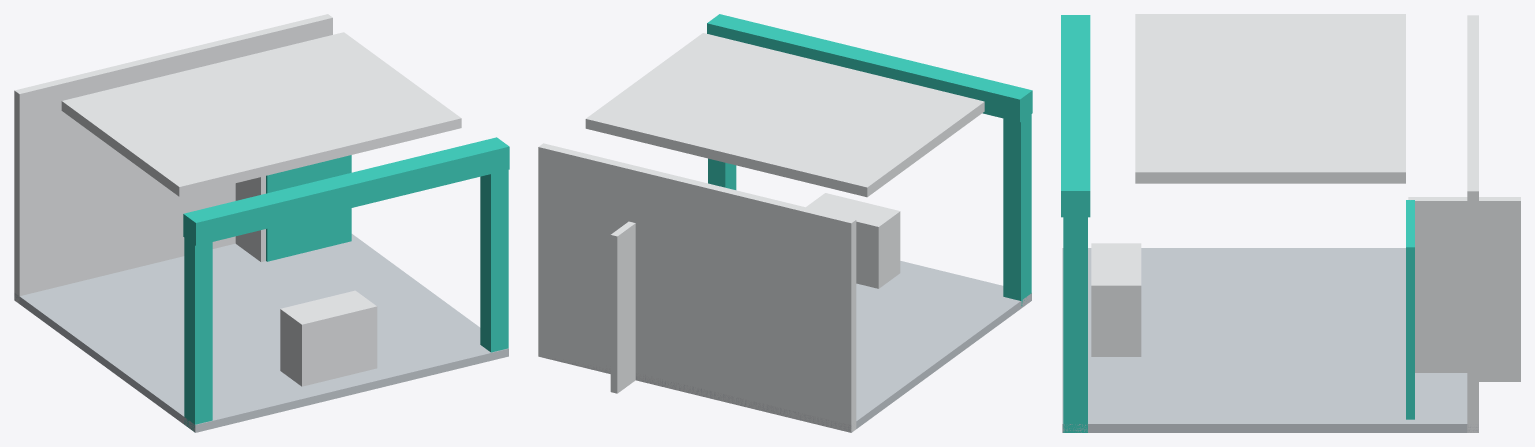
3 views of the same model, side by side, from view 1: azimuth 30°, elevation 25°; view 2: azimuth 150°, elevation 25°; view 3: azimuth 270°, elevation 25° (orthographic). The views are drawn at different scales.
Visible parts, largest first — view 1: Exhibition Booth Concept; view 2: Exhibition Booth Concept; view 3: Exhibition Booth Concept.
Part boxes in pixels (x1=…): Exhibition Booth Concept: x1=14, y1=14, x2=509, y2=432; Exhibition Booth Concept: x1=538, y1=14, x2=1032, y2=432; Exhibition Booth Concept: x1=1061, y1=14, x2=1520, y2=432.
Size of the model in its own units: 5 by 3.34 by 5.52.
